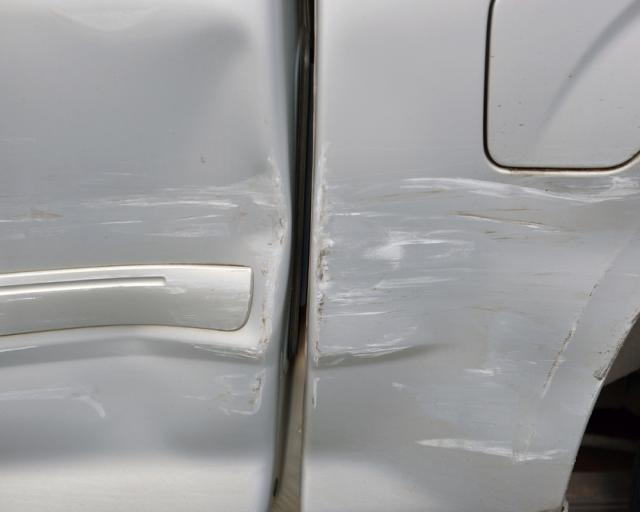scratch: (304, 141, 640, 467), (0, 150, 291, 424)
